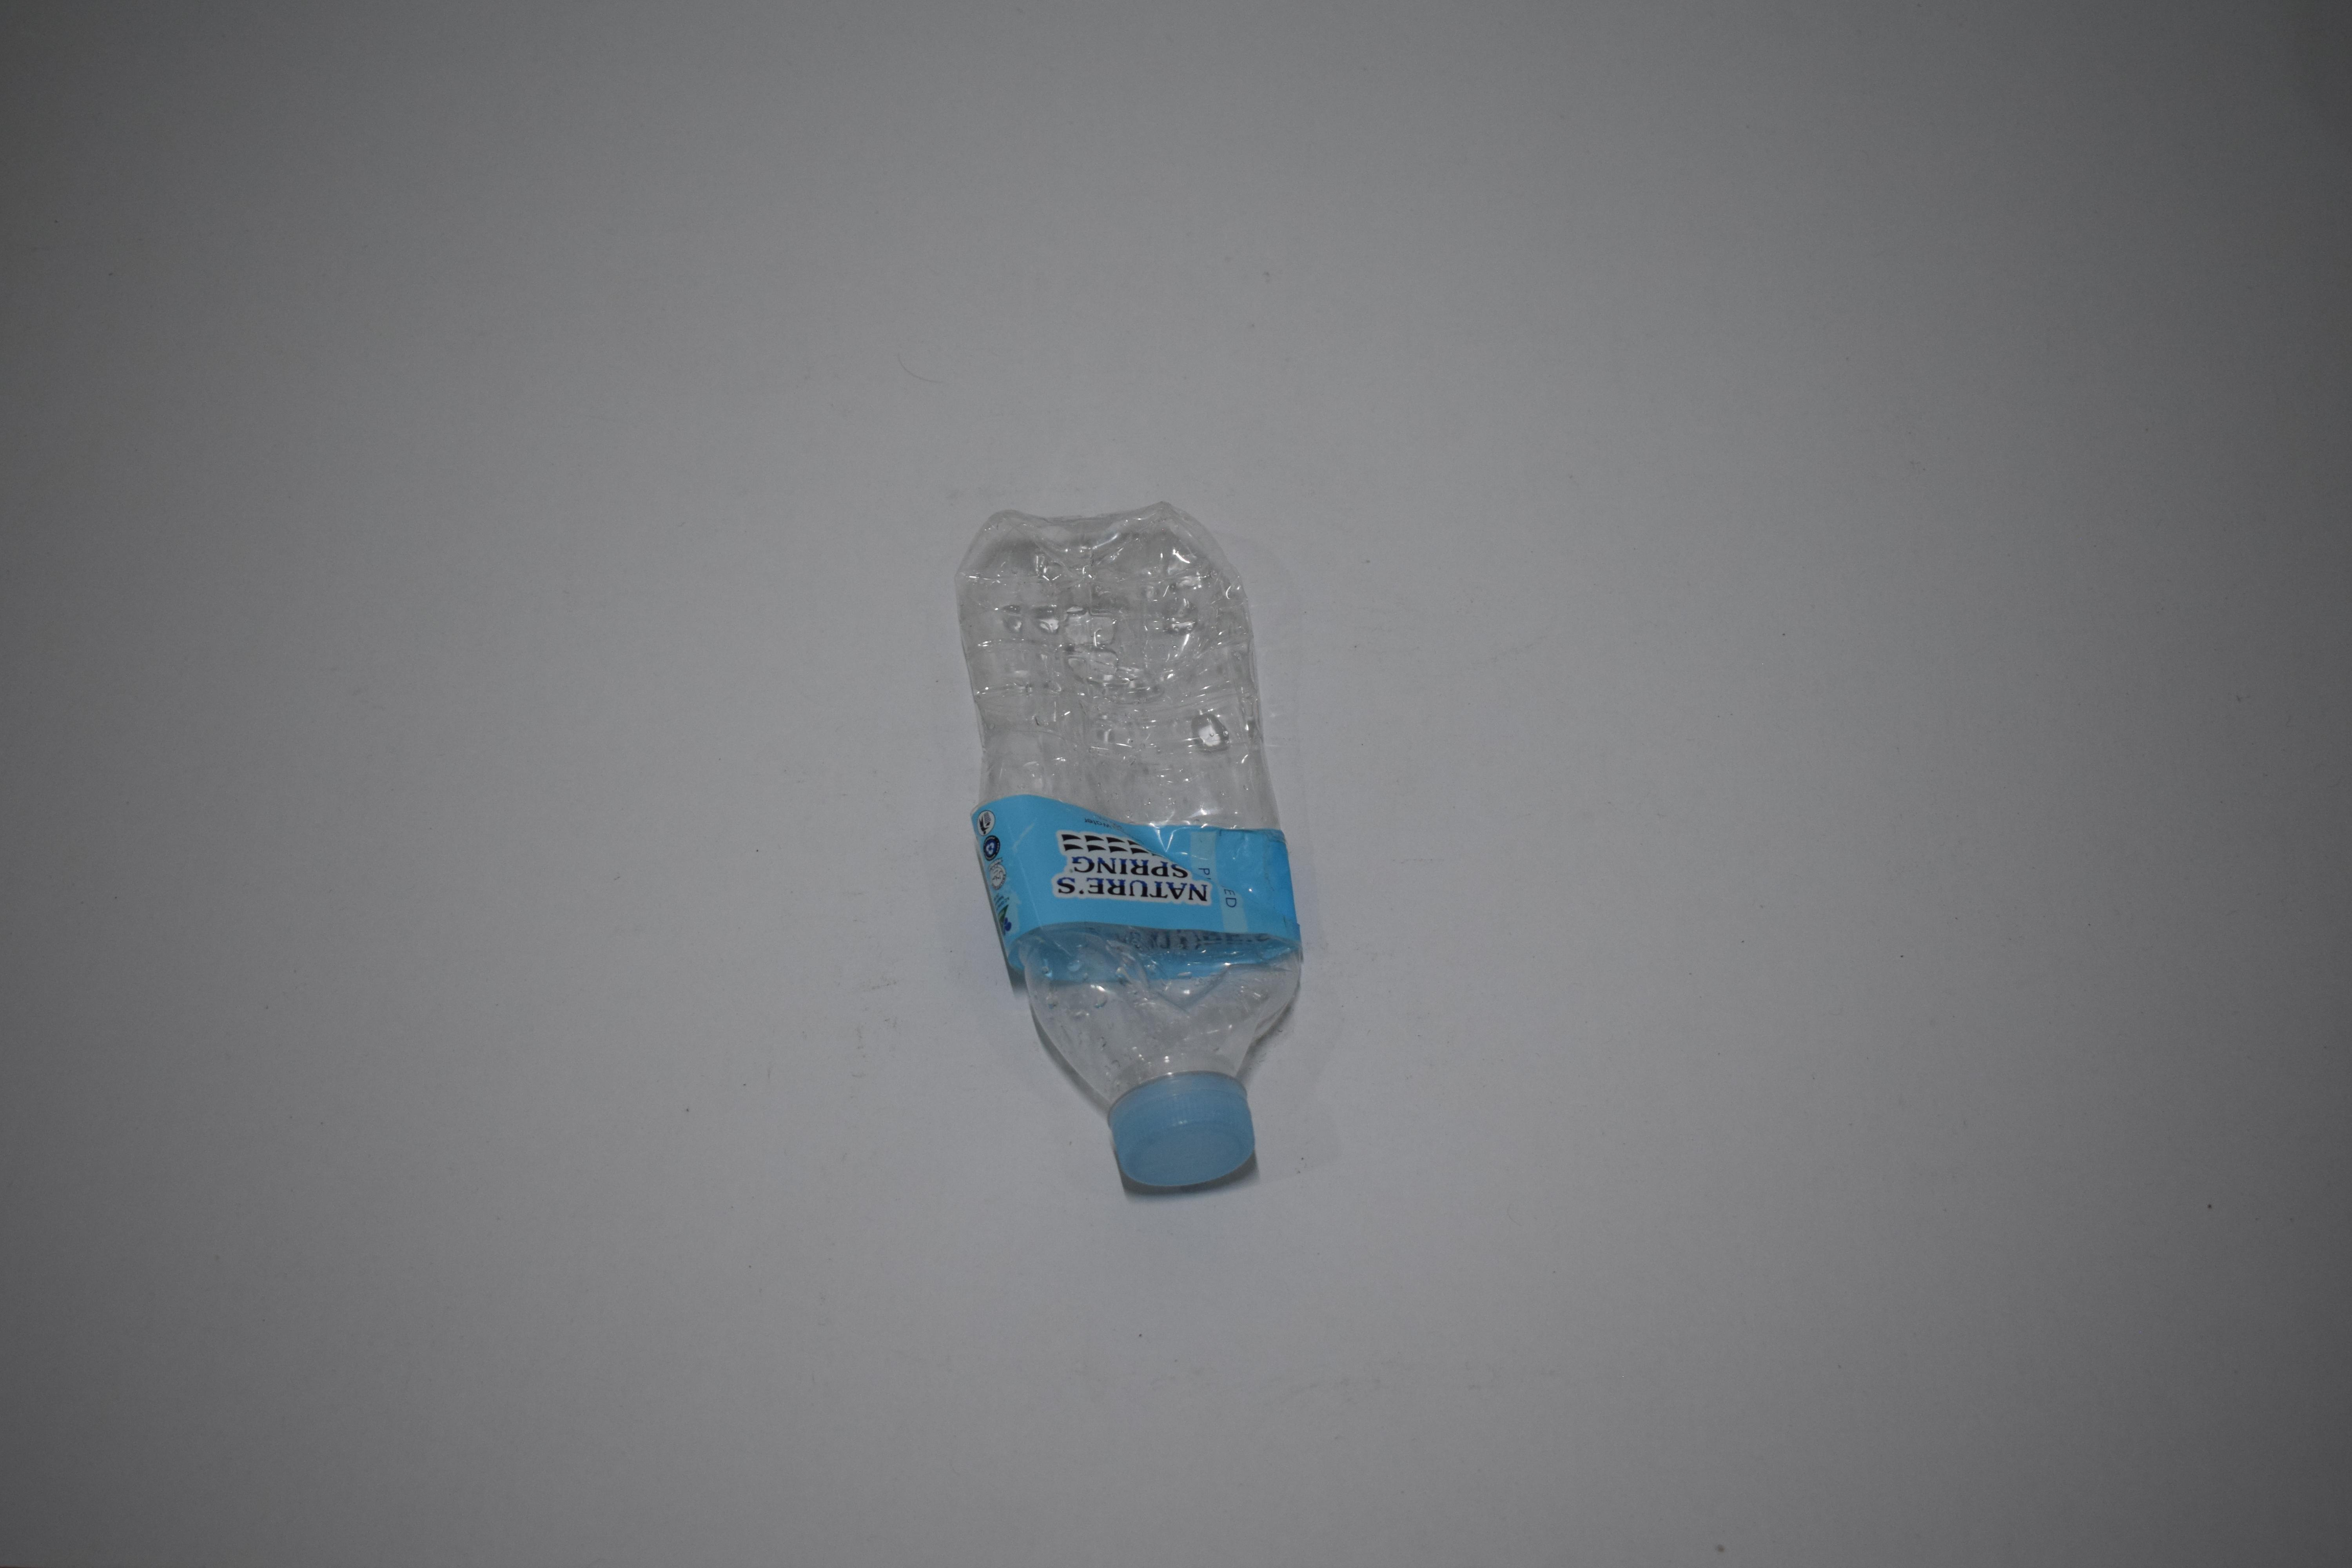bottle: (1003, 0, 1255, 380)
